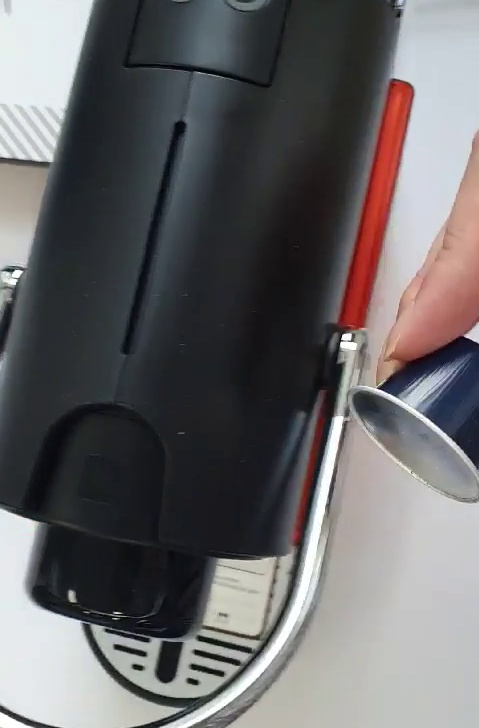capsule_1: (348, 332, 479, 505)
